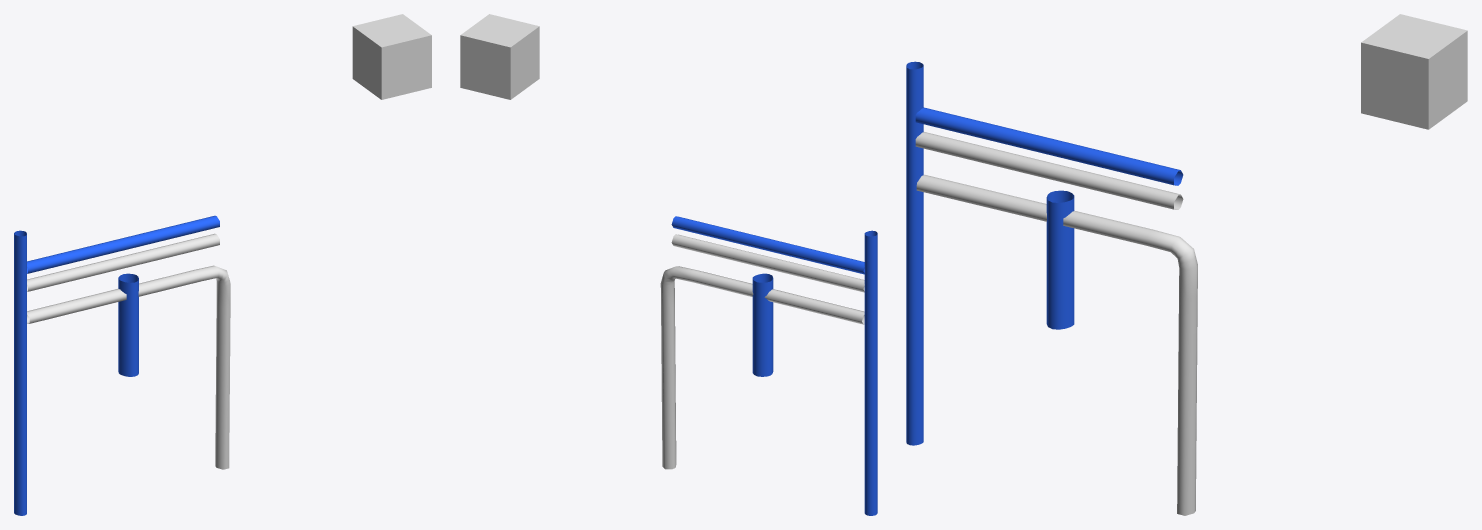
The model's file is cano.glb.
The picture shows the model from 3 angles, left to right: view 1: azimuth 30°, elevation 25°; view 2: azimuth 150°, elevation 25°; view 3: azimuth 330°, elevation 25°; orthographic projection. The views are drawn at different scales.
Parts seen in each view (by area): view 1: NurbsPath.003; view 2: NurbsPath.003; view 3: NurbsPath.003.
Part boxes in pixels (left/top/right/bottom): NurbsPath.003: left=14, top=14, right=431, bottom=515; NurbsPath.003: left=460, top=14, right=877, bottom=515; NurbsPath.003: left=906, top=14, right=1467, bottom=515.
Bounding box in the file's own units: 1.26 × 1.18 × 0.1575.
